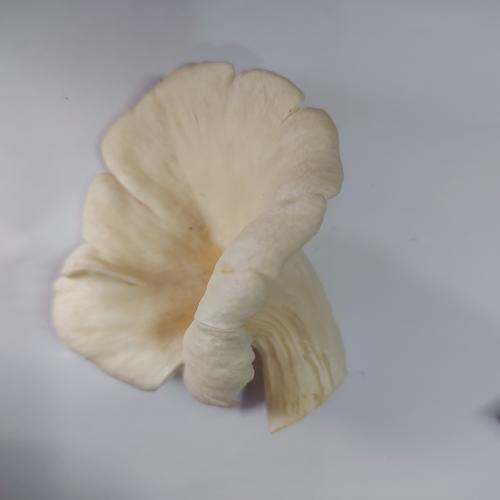Oyster Mushroom: (51, 60, 349, 433)
